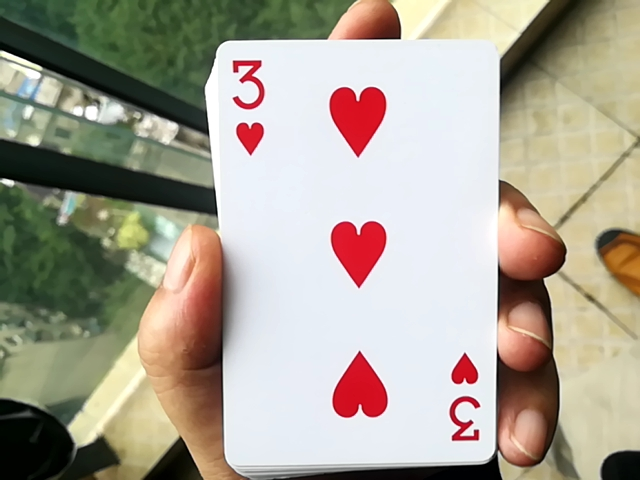hx 3: (199, 25, 495, 472)
